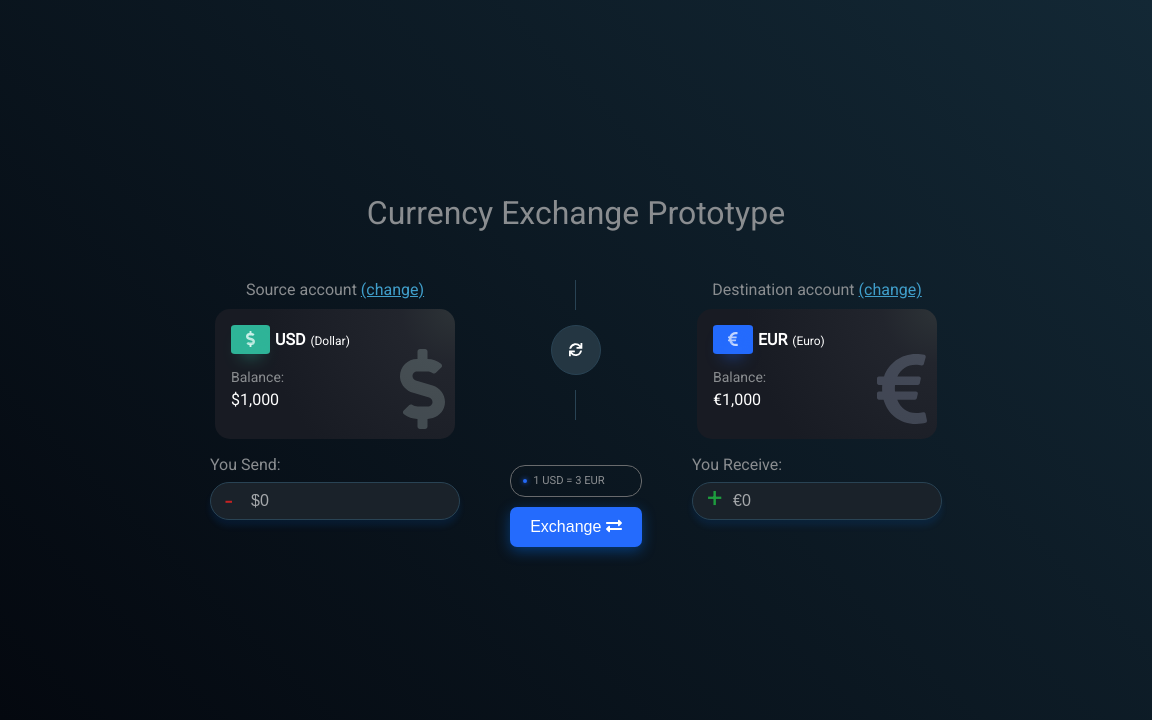
Test: calculate send amount by enter receive amount
This screenshot has width=1152, height=720.
Expected: the text "1 USD = 3 EUR" is shown, left=533, top=474, right=605, bottom=487
Type "30" into the field labelled "You Receive:" at (817, 501), box left=692, top=482, right=942, bottom=520
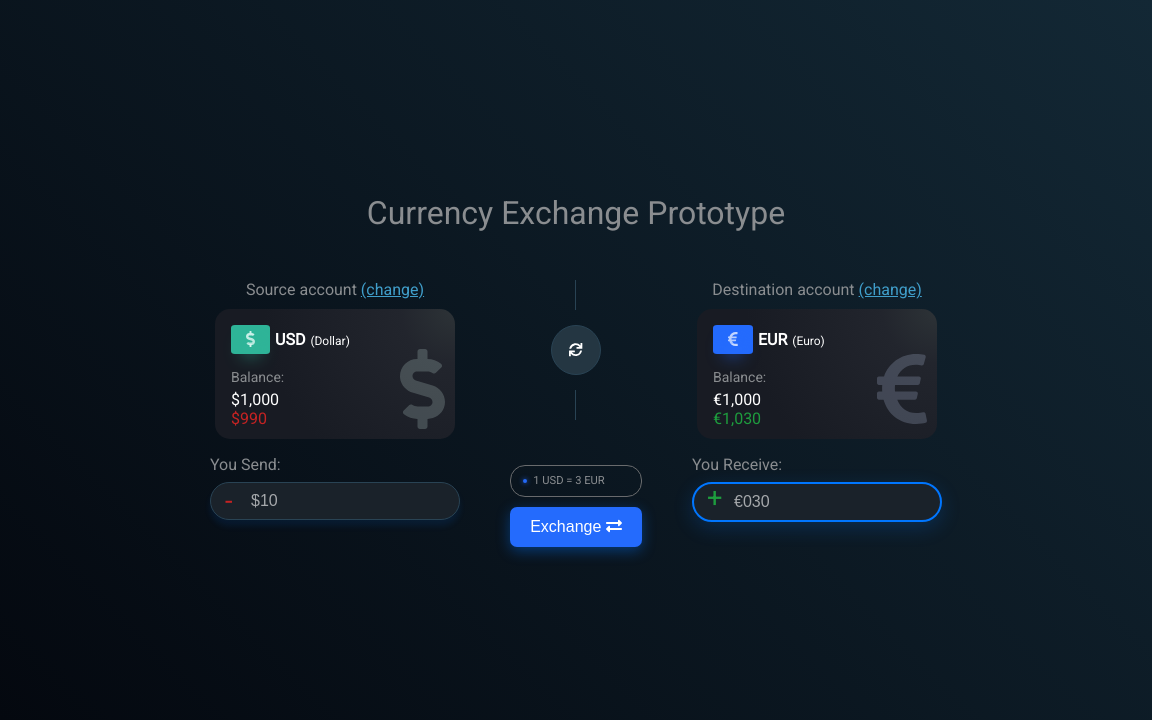
Expected: the field labelled "You Send:" holds "$10", left=210, top=482, right=460, bottom=520
